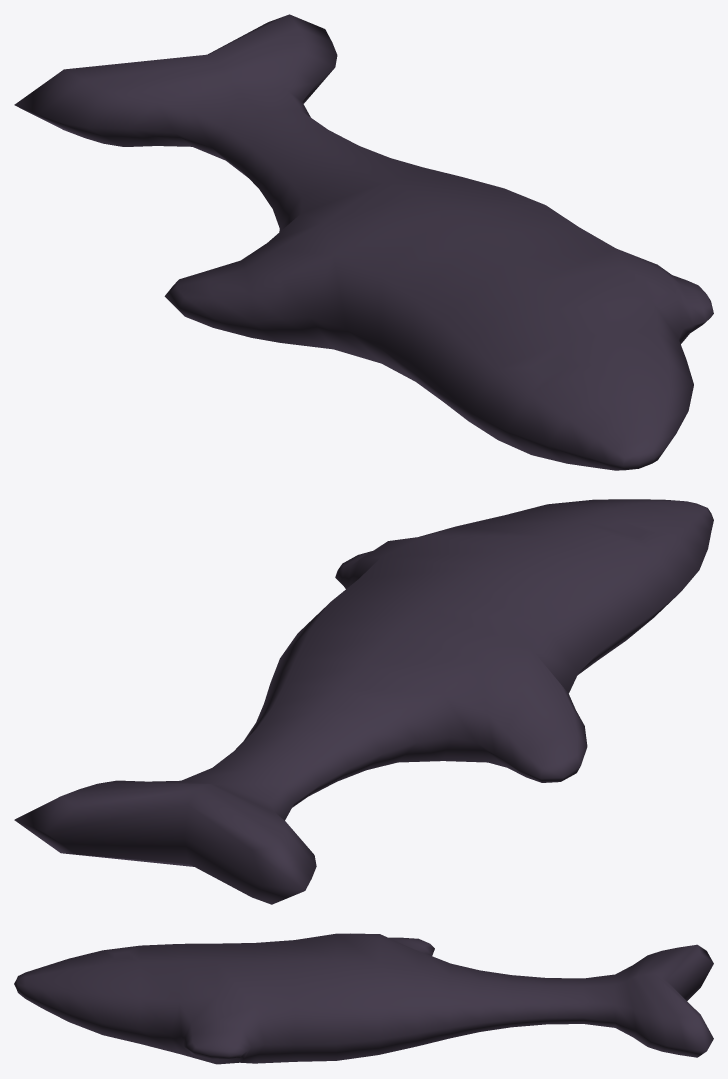
File: FishFollow.glb
3 views of the same model, one above another, from view 1: azimuth 30°, elevation 25°; view 2: azimuth 150°, elevation 25°; view 3: azimuth 270°, elevation 25° (orthographic). The views are drawn at different scales.
Visible parts, largest first — view 1: Cube; view 2: Cube; view 3: Cube.
Boxes of the visible parts, left/top/right/bottom form: Cube: left=14, top=14, right=713, bottom=470; Cube: left=14, top=499, right=713, bottom=904; Cube: left=14, top=933, right=713, bottom=1064.
Size of the model in its own units: 0.7331 by 0.2168 by 1.72.
1 material, 1 textured.
